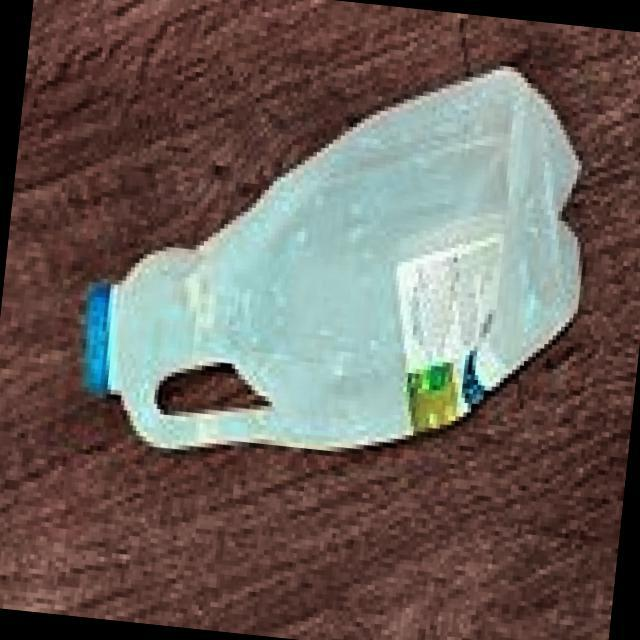HDPE Plastic: (79, 63, 586, 457)
